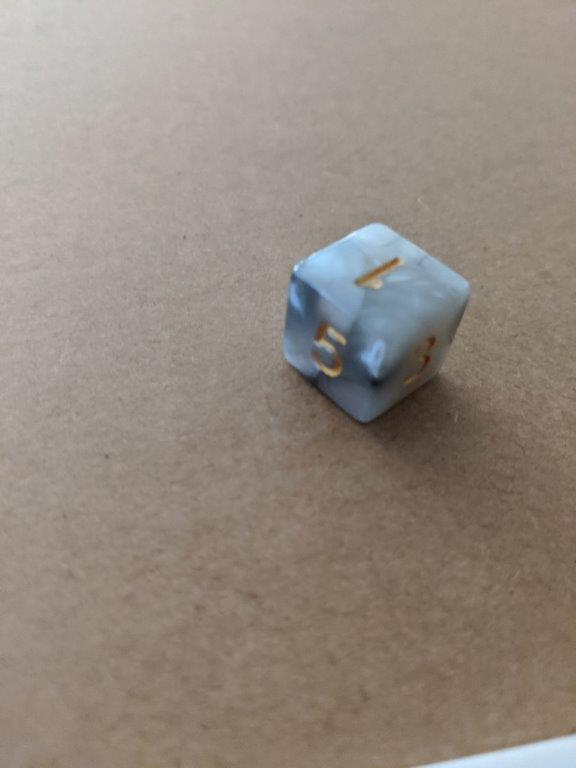d6-1: (281, 224, 470, 424)
